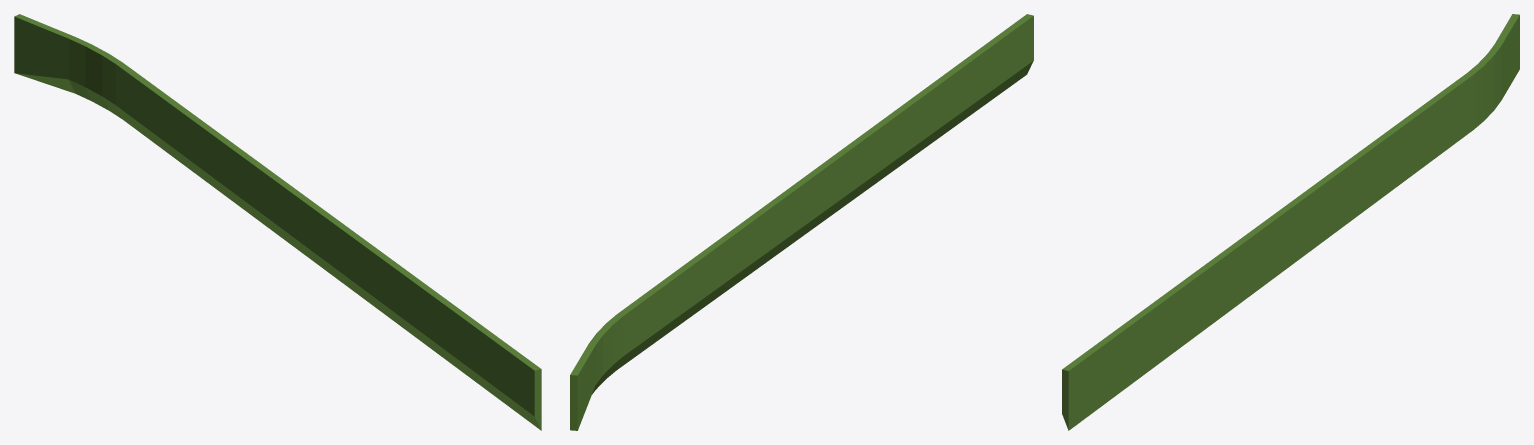
Rendered from Pinball_LaneInner_R.fbx.
3 views of the same model, side by side, from view 1: azimuth 30°, elevation 25°; view 2: azimuth 150°, elevation 25°; view 3: azimuth 330°, elevation 25° (orthographic). The views are drawn at different scales.
Parts seen in each view (by area): view 1: Pinball_LaneInner_R.001; view 2: Pinball_LaneInner_R.001; view 3: Pinball_LaneInner_R.001.
Boxes of the visible parts, x1,y1,x2,y2 form: Pinball_LaneInner_R.001: (14,14,541,430); Pinball_LaneInner_R.001: (570,14,1033,430); Pinball_LaneInner_R.001: (1062,14,1519,430).
Bounding box in the file's own units: 24.86 × 43 × 622.
